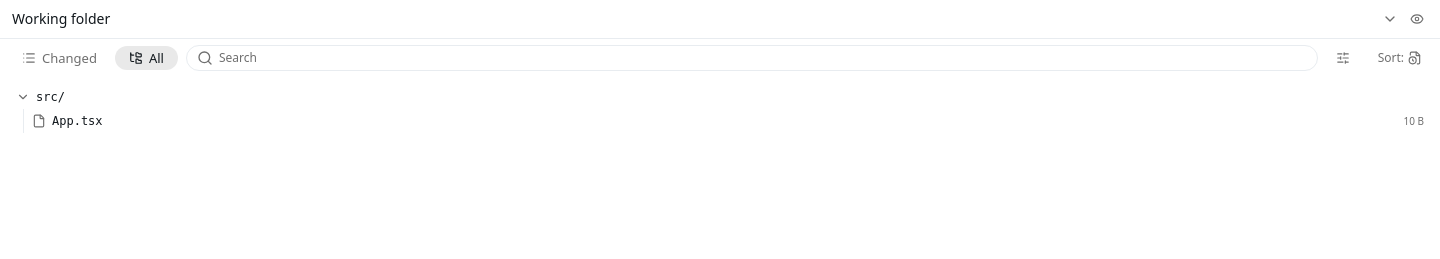
Scenario: FilesPanel tree (Explore) search › reveals the include/exclude glob inputs when the filters toggle is clicked
Check: the field labelled "files to include" is not shown
Step 1. Click the button named "Show search filters" → (1343, 58), box [1326, 47, 1360, 69]
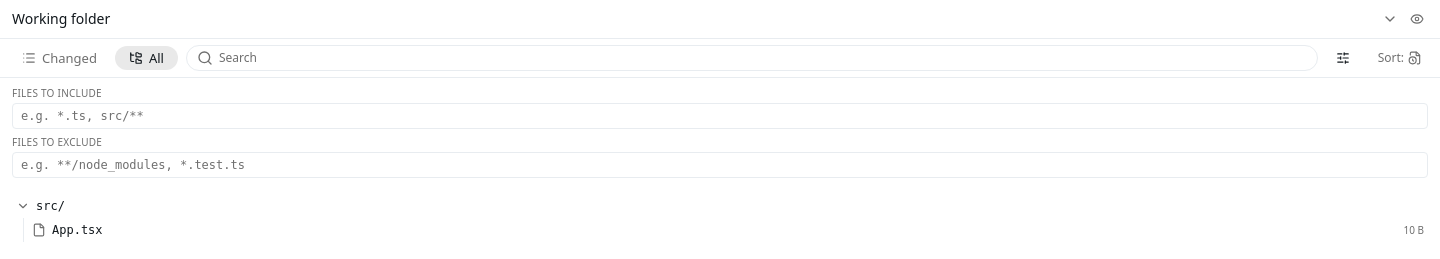
Check: the field labelled "files to include" is shown, box [12, 103, 1428, 129]
Check: the field labelled "files to exclude" is shown, box [12, 152, 1428, 178]
